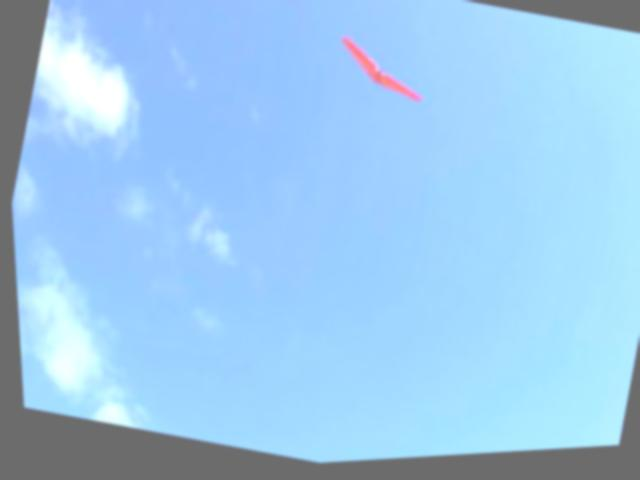flying wing: (326, 32, 436, 116)
